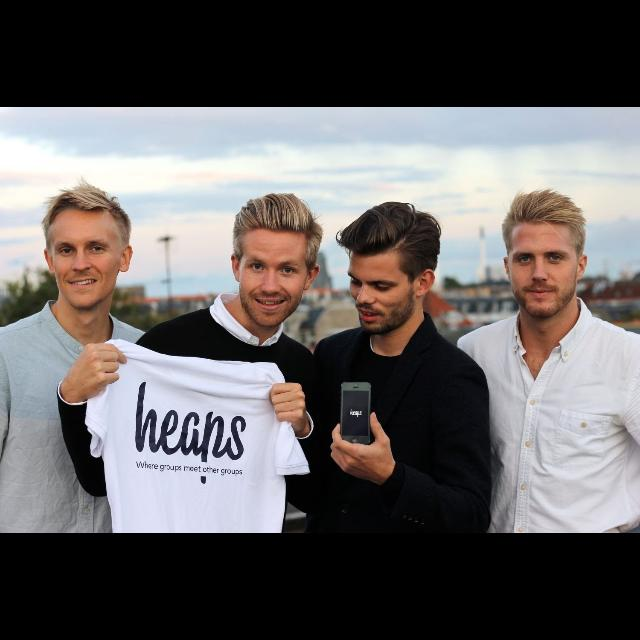head: (346, 206, 439, 338), (43, 190, 135, 312), (502, 194, 590, 318), (230, 214, 322, 328)
